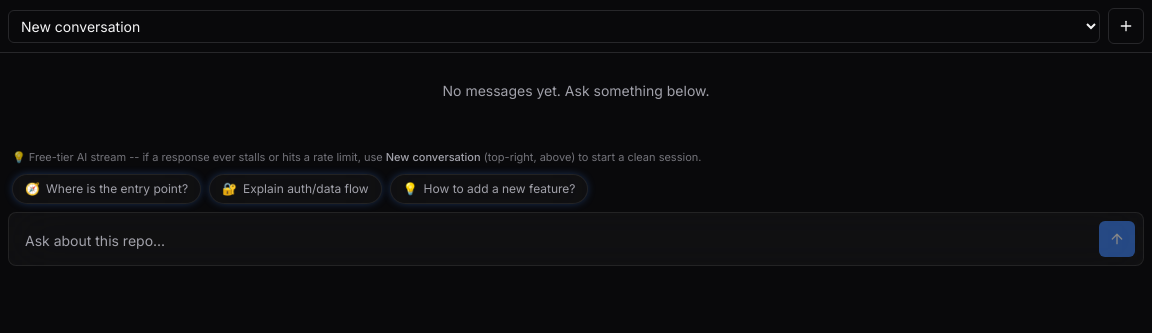
ChatPanel error retry › automatically retries and recovers silently when the initial POST fails outright (no manual click needed)
Type "Find the answer" into the text box with placeholder "Ask about this repo..." at (554, 240), box [17,224,1091,256]
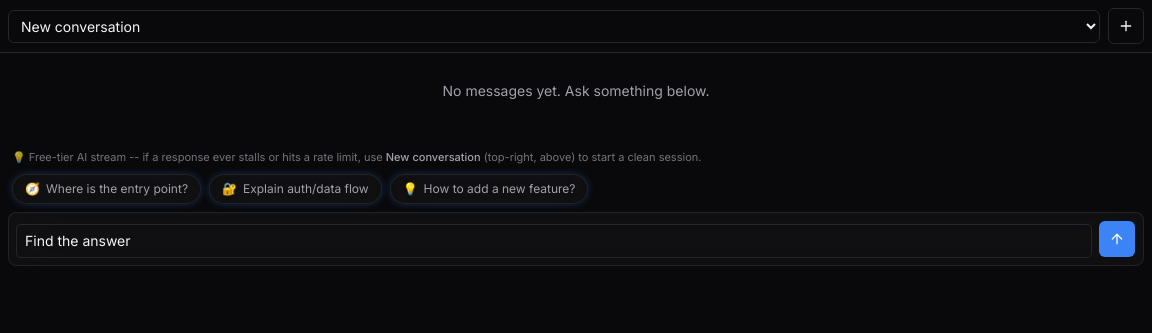
Click the button named "Send message" at (1117, 238), box [1099,220,1135,256]
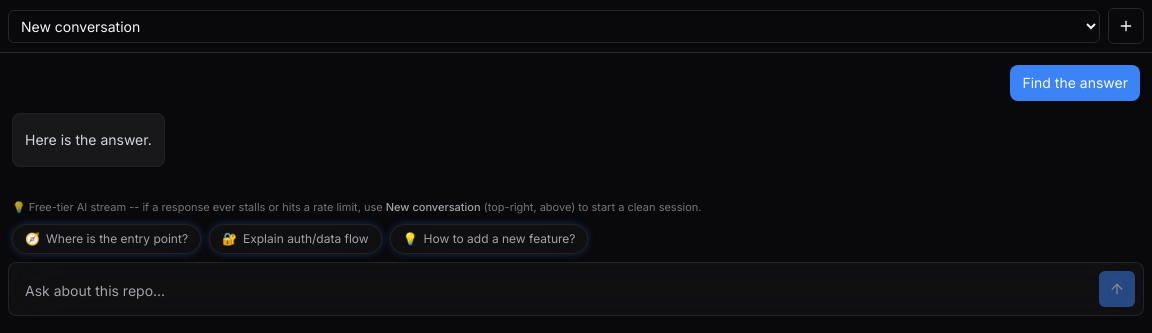
expect the text "Here is the answer." is shown: met, box [25,128,152,152]
